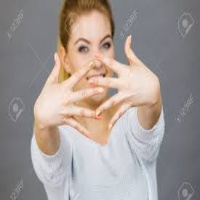ring: (94, 88, 125, 119), (68, 102, 103, 122)
